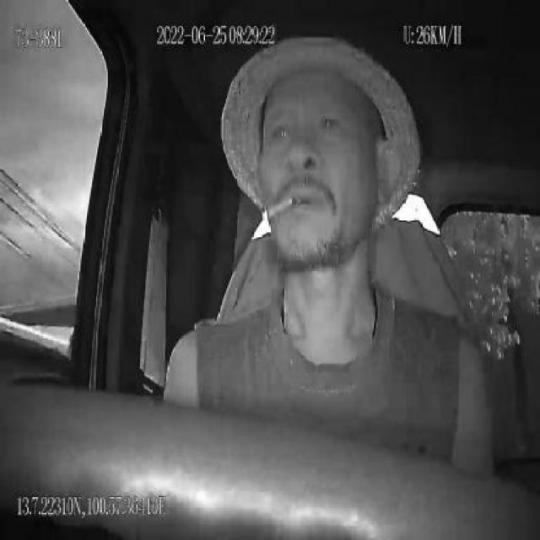smoking: (262, 196, 292, 222)
